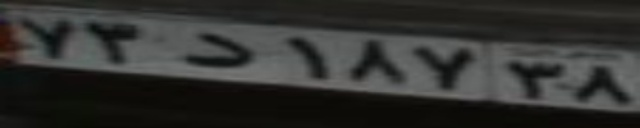1: (287, 38, 330, 78)
3: (81, 22, 143, 63), (505, 61, 568, 99)
7: (410, 46, 477, 90), (17, 17, 74, 58)
8: (345, 40, 403, 85), (574, 65, 630, 105)
dal: (180, 33, 253, 69)
